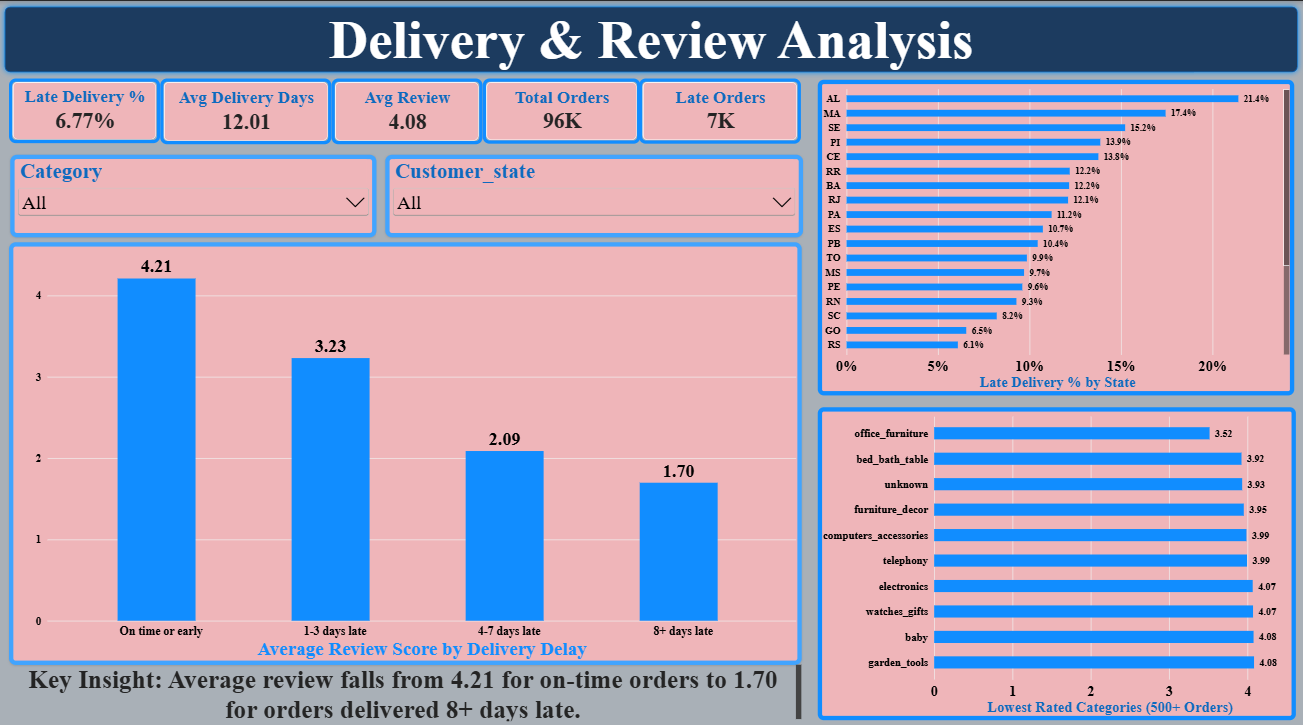

The page's visual inventory and layout, read from the dashboard file:
{"tool":"powerbi","page":{"name":"Delivery and Reviews","canvas":[1920,1080],"ordinal":1},"visuals":[{"type":"cardVisual","fields":{"Data":["fact_sales.Late Delivery %"]},"box":[14.7,114.1,222.7,95.7],"z":0},{"type":"cardVisual","fields":{"Data":["fact_sales.Late Orders"]},"box":[942.3,114.1,238.8,96.7],"z":1000},{"type":"cardVisual","fields":{"Data":["fact_sales.Avg Review"]},"box":[489.6,114.1,222.7,97.5],"z":2000},{"type":"cardVisual","fields":{"Data":["fact_sales.Total Orders"]},"box":[712.3,114.1,232.6,96.7],"z":3000},{"type":"clusteredColumnChart","fields":{"Category":["fact_sales.delay_bucket"],"Y":["fact_sales.Avg Review"]},"box":[14.7,355.2,1166.9,622.1],"z":4000},{"type":"cardVisual","fields":{"Data":["fact_sales.Avg Delivery Days"]},"box":[237.4,114.1,252.1,97.5],"z":5000},{"type":"clusteredBarChart","fields":{"Category":["fact_sales.category"],"Y":["fact_sales.Avg Review (500+ Orders)"]},"box":[1206.2,599,703.9,461.1],"z":6000},{"type":"clusteredBarChart","fields":{"Category":["fact_sales.customer_state"],"Y":["fact_sales.Late Delivery %"]},"box":[1206.2,115.3,701.9,465.2],"z":7000},{"type":"slicer","fields":{"Values":["fact_sales.customer_state"]},"box":[568.1,226.4,615.4,121.4],"z":8000},{"type":"slicer","fields":{"Values":["fact_sales.category"]},"box":[16.6,226.4,539.3,121.5],"z":9000},{"type":"shape","box":[0,0,1920.4,113.2],"z":10000},{"type":"textbox","box":[16.6,977.3,1165,82.8],"z":11000}]}

Visuals, with their boxes in screenshot pixels (x1, y1, x2, y2), scaled from the page's 1920x1080 canvas onto the 1303x725 screenshot:
cardVisual - fact_sales.Late Delivery %: (10,77,161,141)
cardVisual - fact_sales.Late Orders: (639,77,802,142)
cardVisual - fact_sales.Avg Review: (332,77,483,142)
cardVisual - fact_sales.Total Orders: (483,77,641,142)
clusteredColumnChart - fact_sales.delay_bucket x fact_sales.Avg Review: (10,238,802,656)
cardVisual - fact_sales.Avg Delivery Days: (161,77,332,142)
clusteredBarChart - fact_sales.category x fact_sales.Avg Review (500+ Orders): (819,402,1296,712)
clusteredBarChart - fact_sales.customer_state x fact_sales.Late Delivery %: (819,77,1295,390)
slicer - fact_sales.customer_state: (386,152,803,233)
slicer - fact_sales.category: (11,152,377,234)
shape: (0,0,1302,76)
textbox: (11,656,802,712)
